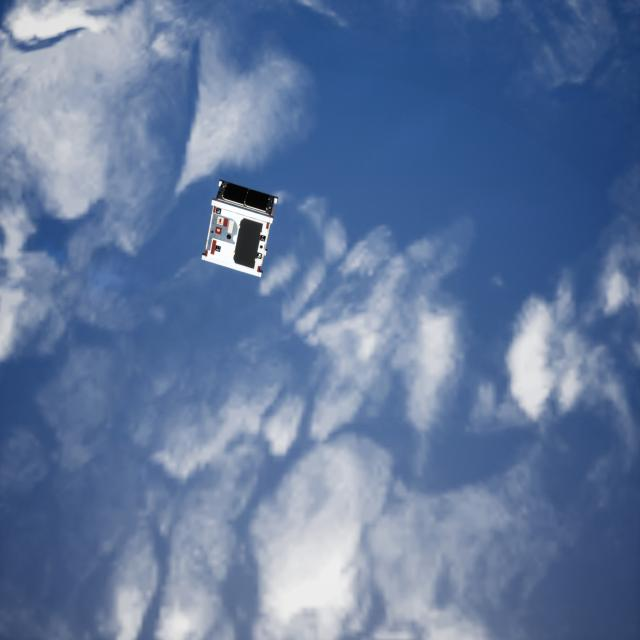satellite: (200, 180, 281, 280)
